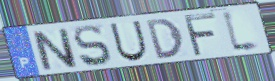D: (144, 16, 185, 61)
F: (181, 11, 219, 58)
L: (220, 8, 265, 55)
N: (30, 27, 81, 73)
S: (71, 23, 114, 68)
U: (108, 20, 150, 63)
